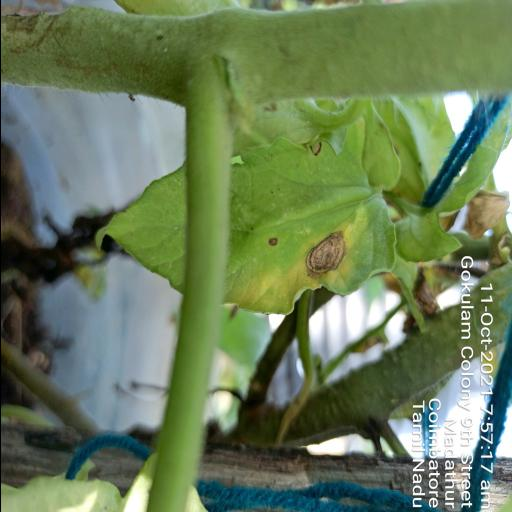Early Blight: (94, 135, 394, 315)
